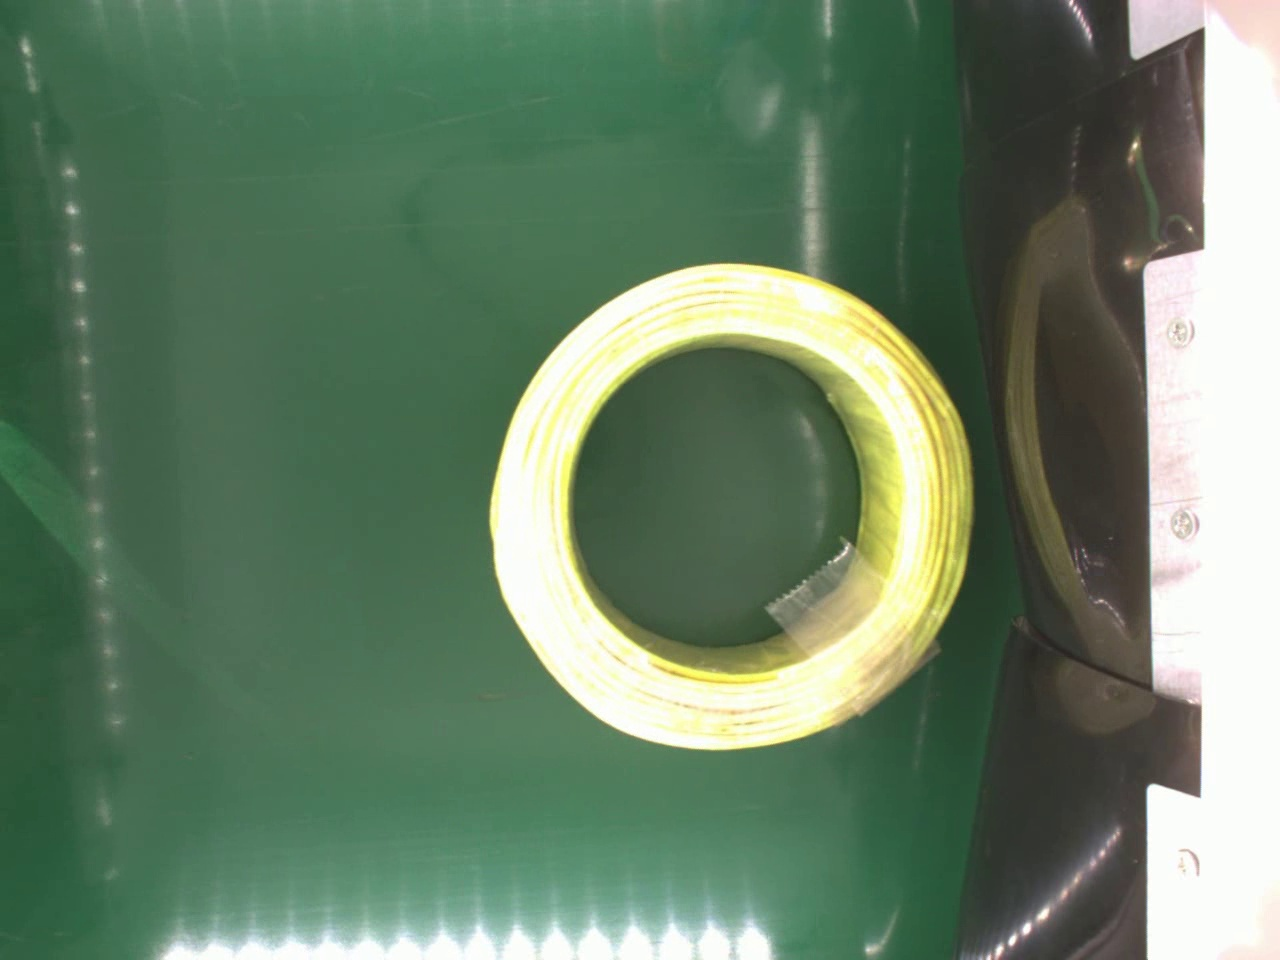yellow: (486, 254, 973, 754)
